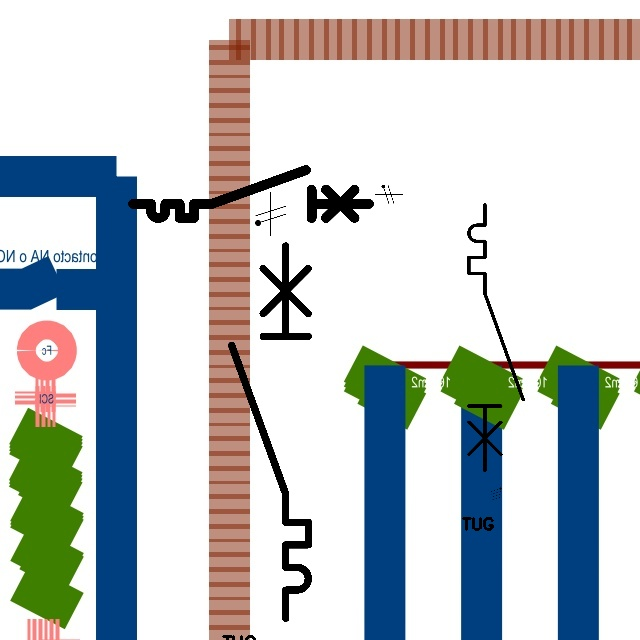interruptor_termomagnetico: (222, 236, 318, 627), (462, 198, 530, 478), (127, 164, 375, 224)
